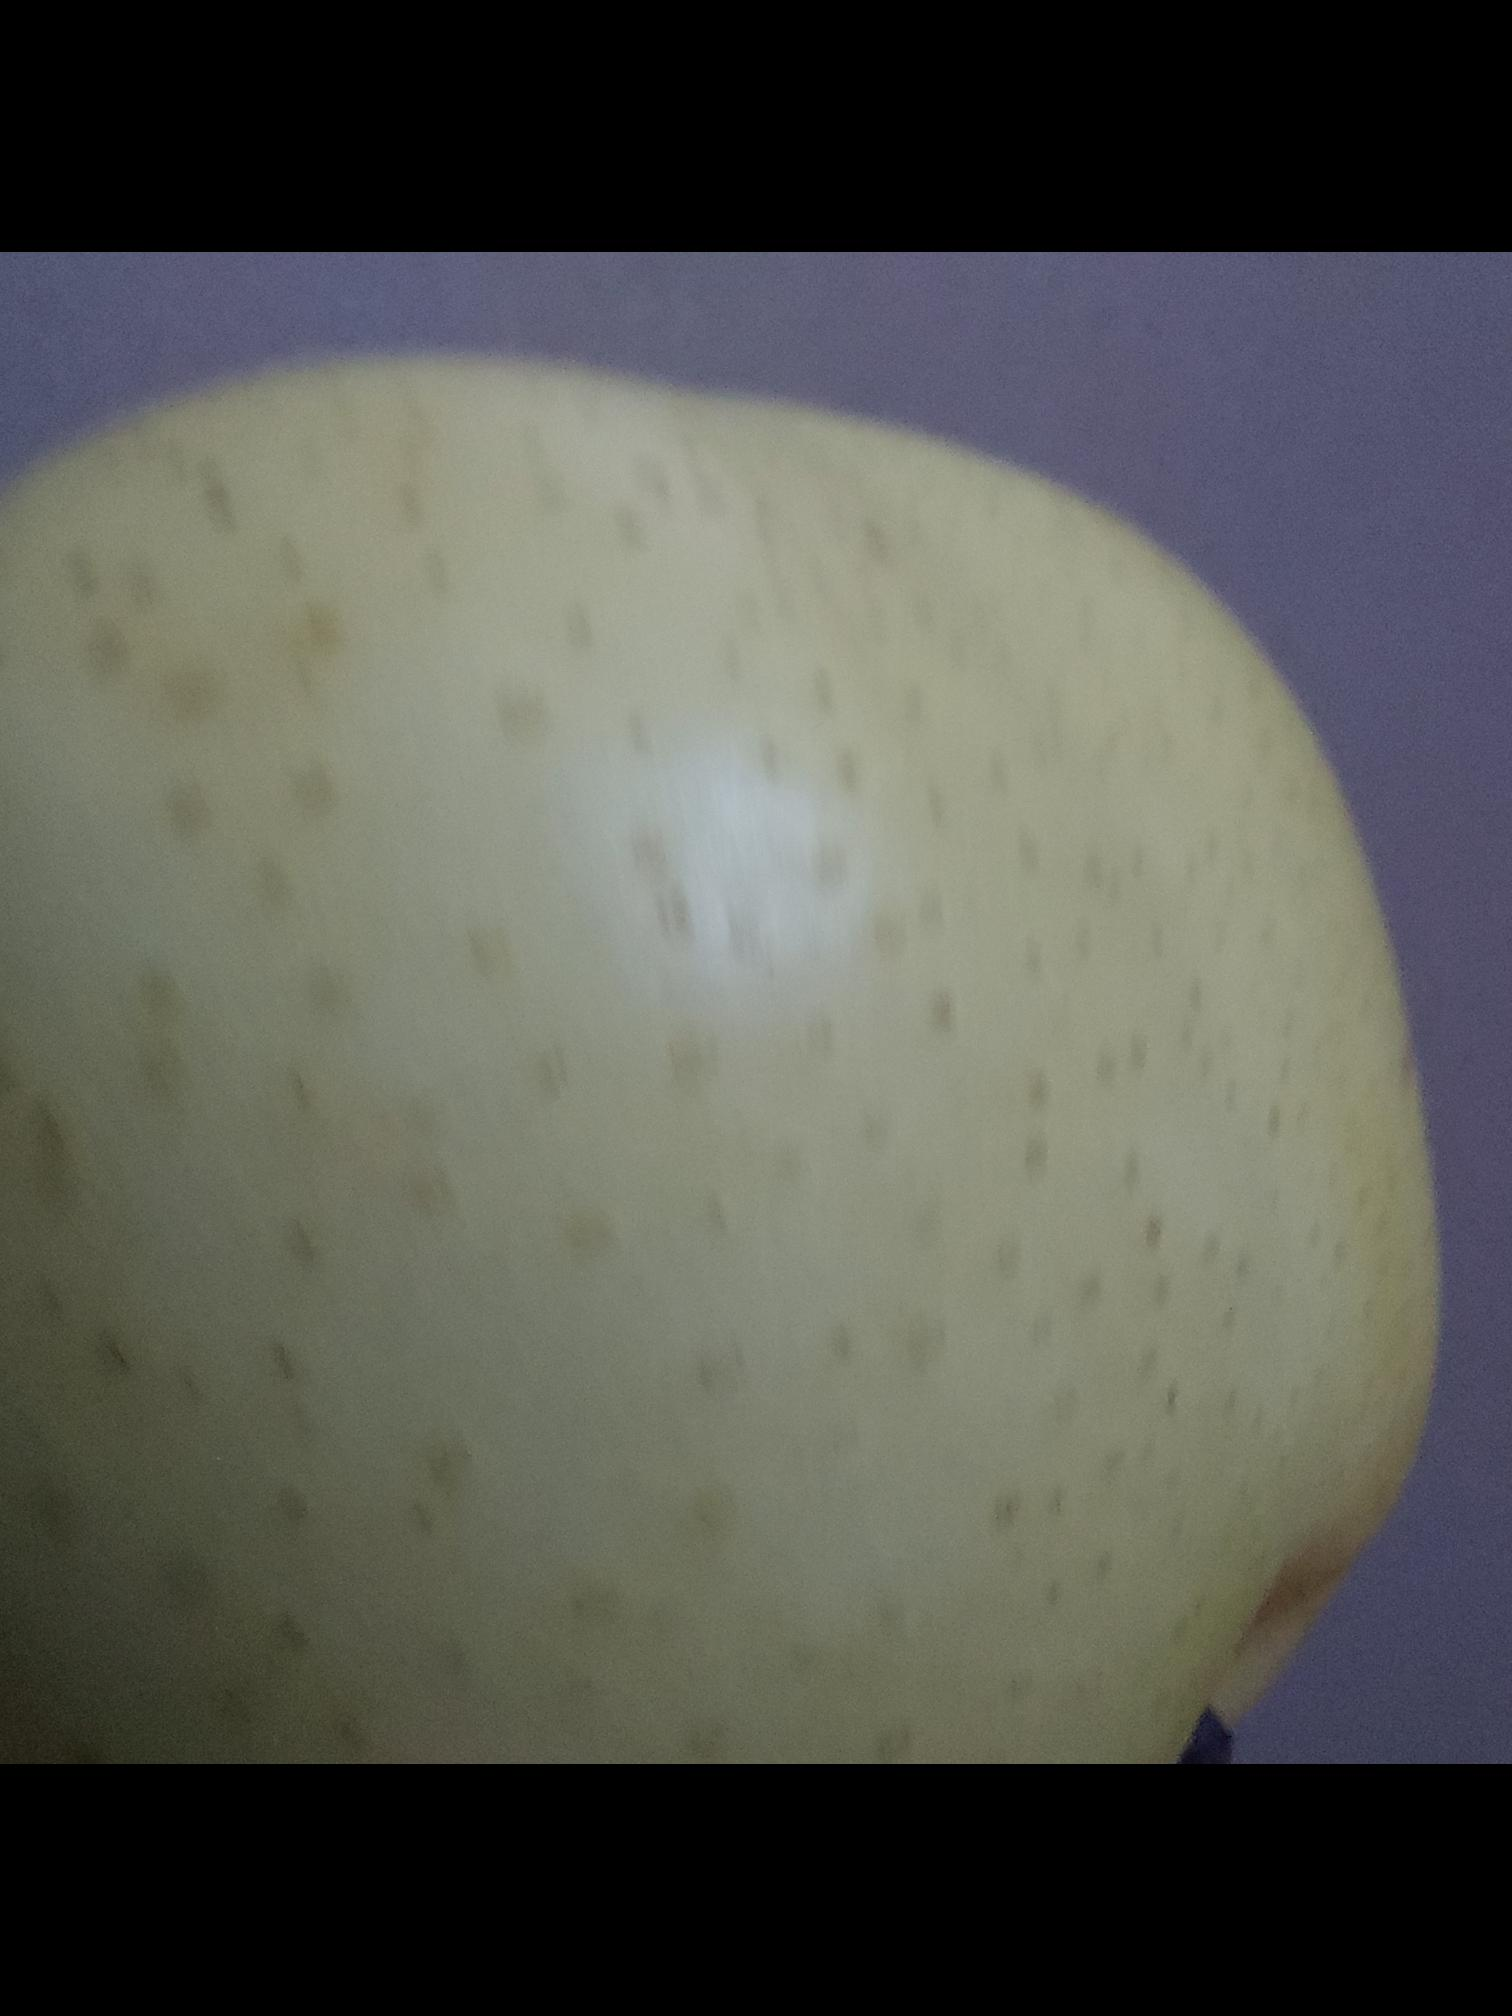Good Pear: (0, 349, 1464, 1764)
